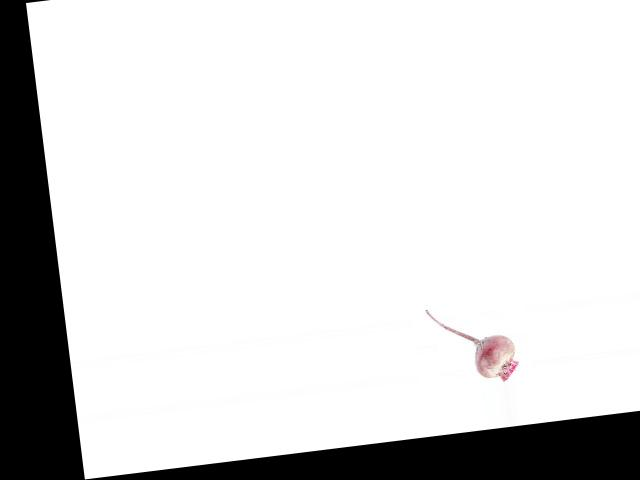beet: (425, 299, 520, 390)
